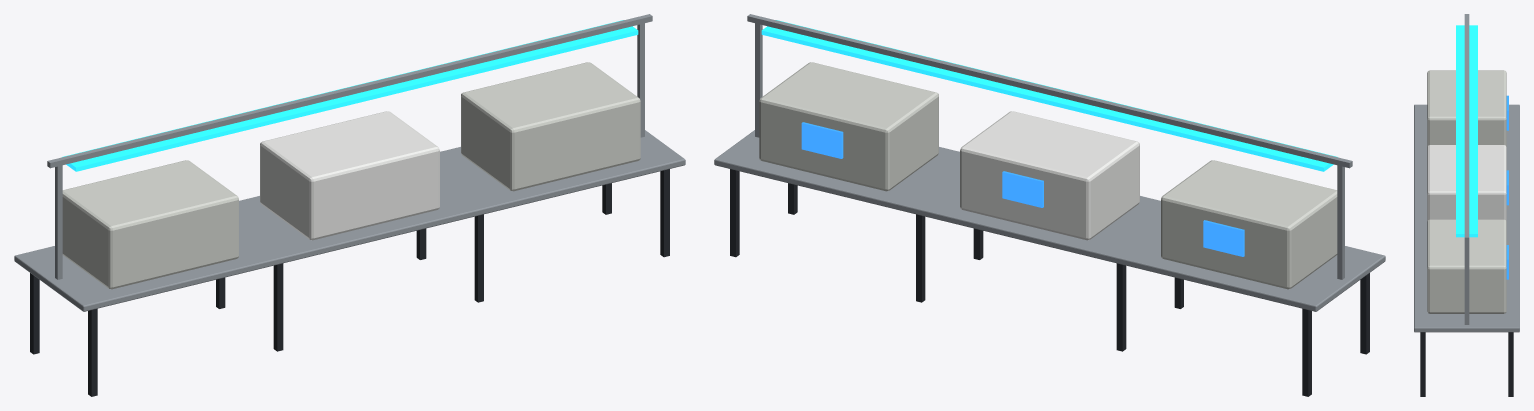
The model's file is equipment.glb.
The picture shows the model from 3 angles, left to right: view 1: azimuth 30°, elevation 25°; view 2: azimuth 150°, elevation 25°; view 3: azimuth 270°, elevation 25°; orthographic projection. The views are drawn at different scales.
Parts seen in each view (by area): view 1: equipment; view 2: equipment; view 3: equipment.
Boxes of the visible parts, <box> form: equipment: <box>14,14,685,396</box>; equipment: <box>714,14,1385,396</box>; equipment: <box>1414,14,1519,396</box>.
Bounding box in the file's own units: 6 × 2.05 × 1.2.
